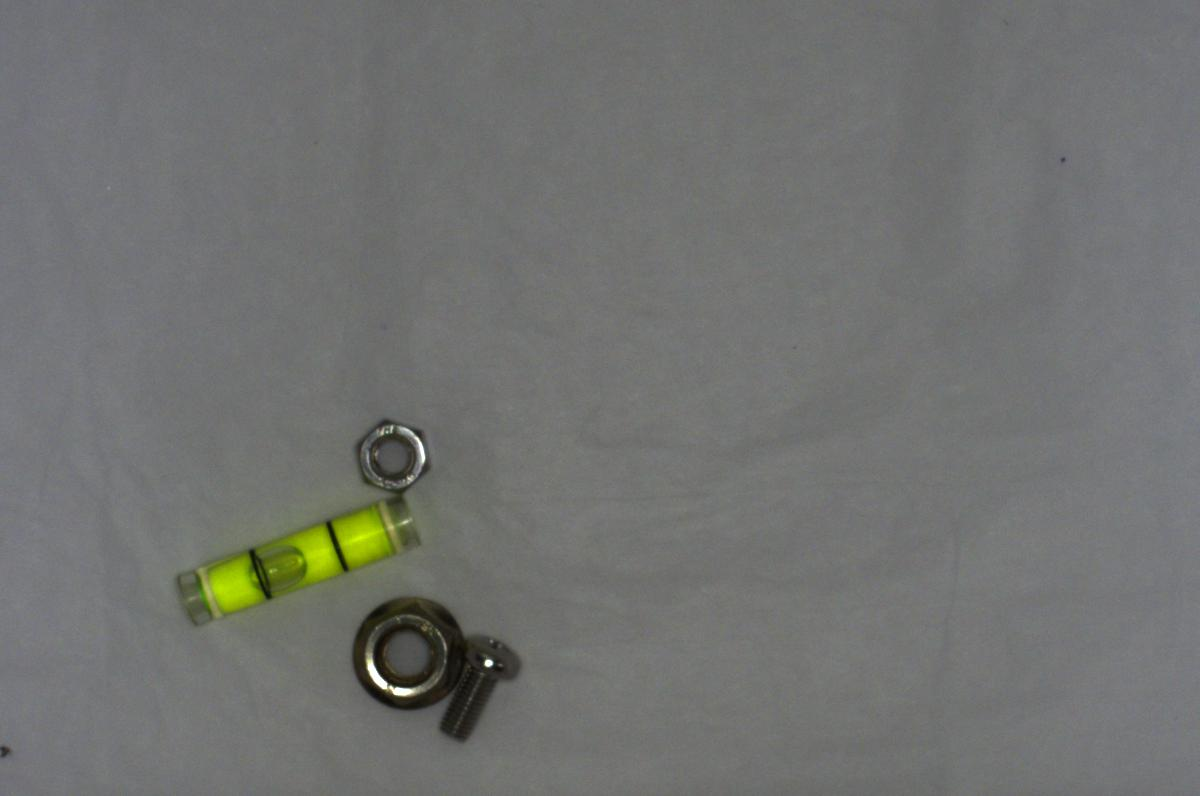Flange nut: (347, 593, 468, 716)
Hexagon nut: (348, 408, 440, 496)
Horizontal bubble: (173, 496, 422, 630)
Round head screw: (440, 626, 521, 740)
